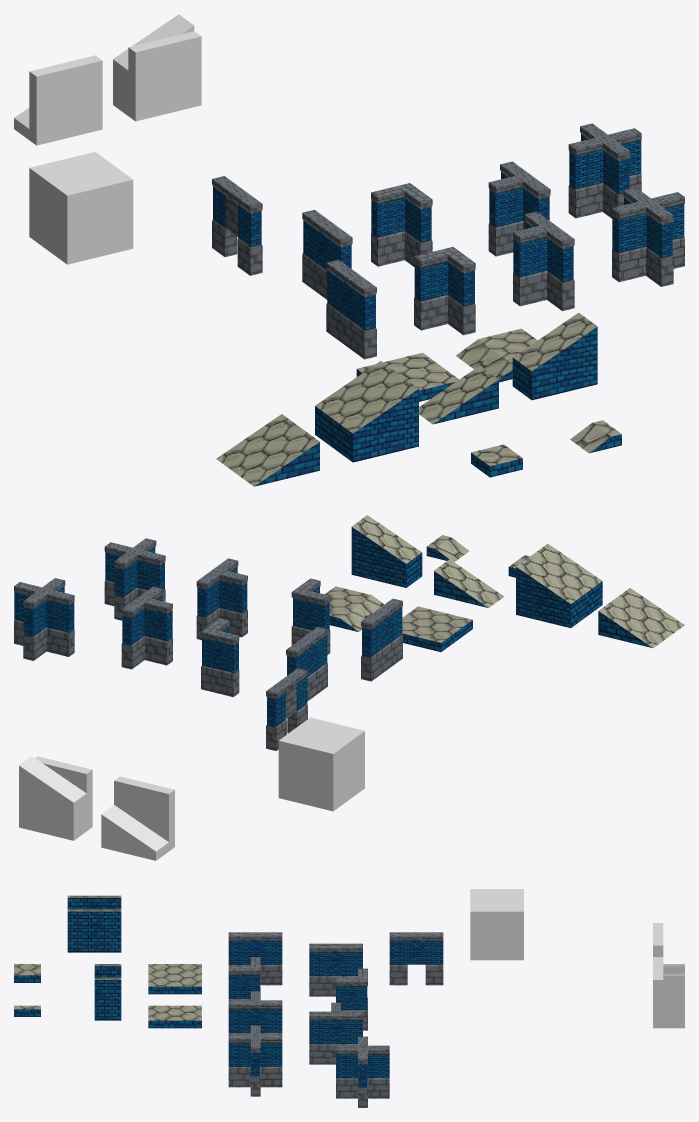
The model's file is dungeon_1.glb.
3 views of the same model, one above another, from view 1: azimuth 30°, elevation 25°; view 2: azimuth 150°, elevation 25°; view 3: azimuth 270°, elevation 25° (orthographic). The views are drawn at different scales.
Visible parts, largest first — view 1: Cube, ramp_2_upper, ramp_wall_up_1, x_wall_3, ramp_wall_down_1, x_wall_3_edge, ramp_2_upper.001, t_wall_3, corner_3, ramp_2_lower, corner_3_edge, wall_3 (+8 smaller); view 2: Cube, ramp_wall_up_1, ramp_2_upper, ramp_wall_down_1, x_wall_3_edge, ramp_2_upper.001, t_wall_3_edge, x_wall_3, ramp_2_lower, t_wall_3, wall_3, corner_3_edge (+7 smaller); view 3: Cube, x_wall_3, x_wall_3_edge, wall_3_vent, t_wall_3_edge, ramp_2_upper, wall_3_edge, wall_3, ramp_wall_up_1, t_wall_3, floor_3, floor_4 (+7 smaller).
Part boxes in pixels (<box>): Cube: <box>29,152,133,264</box>; ramp_2_upper: <box>315,361,418,462</box>; ramp_wall_up_1: <box>113,14,201,121</box>; x_wall_3: <box>612,187,684,286</box>; ramp_wall_down_1: <box>14,55,102,145</box>; x_wall_3_edge: <box>568,123,641,218</box>; ramp_2_upper.001: <box>512,312,597,400</box>; t_wall_3: <box>513,211,574,310</box>; corner_3: <box>414,247,475,335</box>; ramp_2_lower: <box>216,414,319,486</box>; corner_3_edge: <box>371,183,432,266</box>; wall_3: <box>326,259,376,359</box>; Cube: <box>278,717,364,811</box>; ramp_wall_up_1: <box>19,756,92,840</box>; ramp_2_upper: <box>516,544,602,627</box>; ramp_wall_down_1: <box>101,776,174,860</box>; x_wall_3_edge: <box>14,578,74,660</box>; ramp_2_upper.001: <box>351,515,422,587</box>; t_wall_3_edge: <box>121,586,172,669</box>; x_wall_3: <box>104,538,165,620</box>; ramp_2_lower: <box>598,588,684,648</box>; t_wall_3: <box>196,558,247,640</box>; wall_3: <box>361,598,402,681</box>; corner_3_edge: <box>201,618,239,697</box>; Cube: <box>470,889,523,960</box>; x_wall_3: <box>228,1025,282,1096</box>; x_wall_3_edge: <box>336,1036,389,1107</box>; wall_3_vent: <box>389,932,443,985</box>; t_wall_3_edge: <box>309,1002,362,1064</box>; ramp_2_upper: <box>67,909,121,952</box>; wall_3_edge: <box>309,943,362,996</box>; wall_3: <box>228,932,282,985</box>; ramp_wall_up_1: <box>653,957,684,1028</box>; t_wall_3: <box>228,991,282,1034</box>; floor_3: <box>148,964,201,994</box>; floor_4: <box>148,1005,201,1028</box>.
Size of the model in its own units: 18 by 2.16 by 25.
17 materials, 17 textured.
